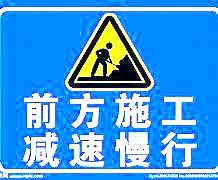sign: (3, 4, 211, 176)
